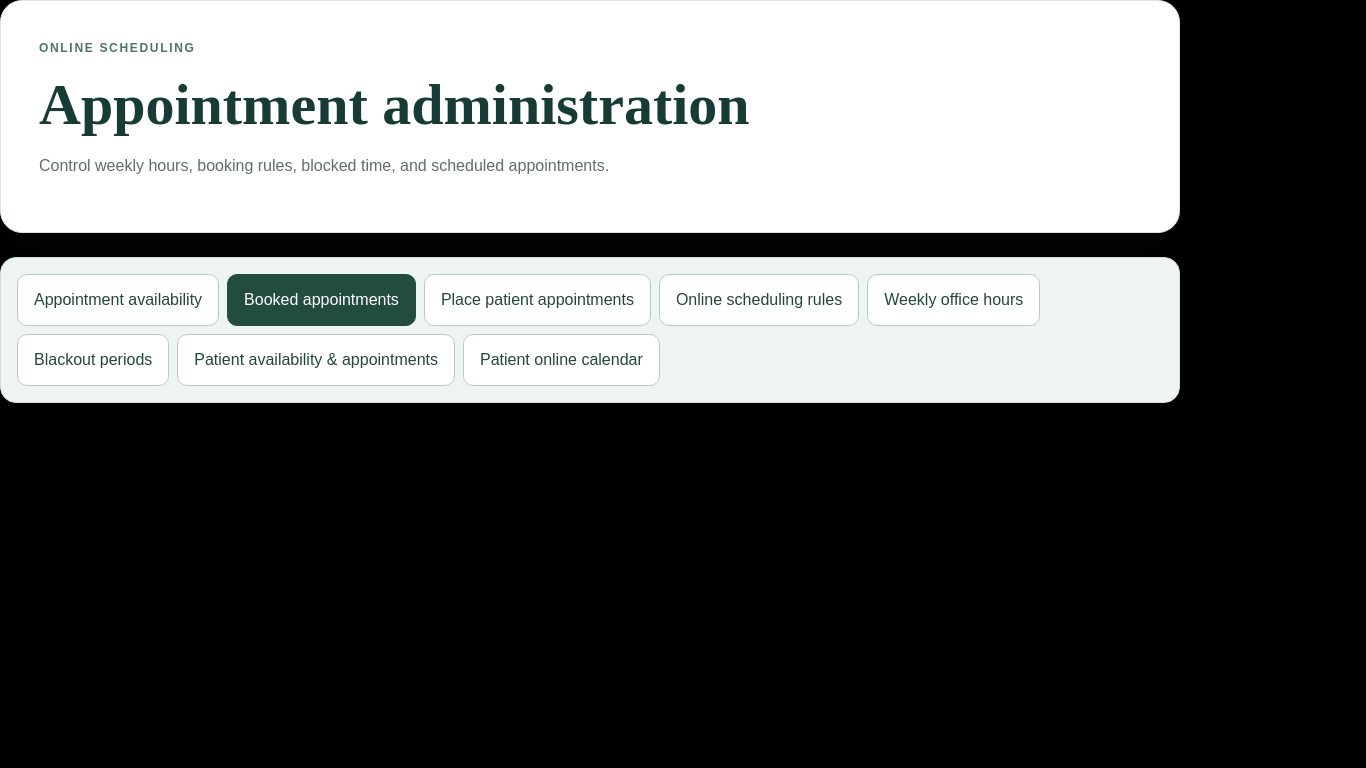
Test: patient selector and repeat controls are admin-only
Click the button "Place patient appointments".
click(537, 300)  # box [424,274,651,326]
(page scrolled)
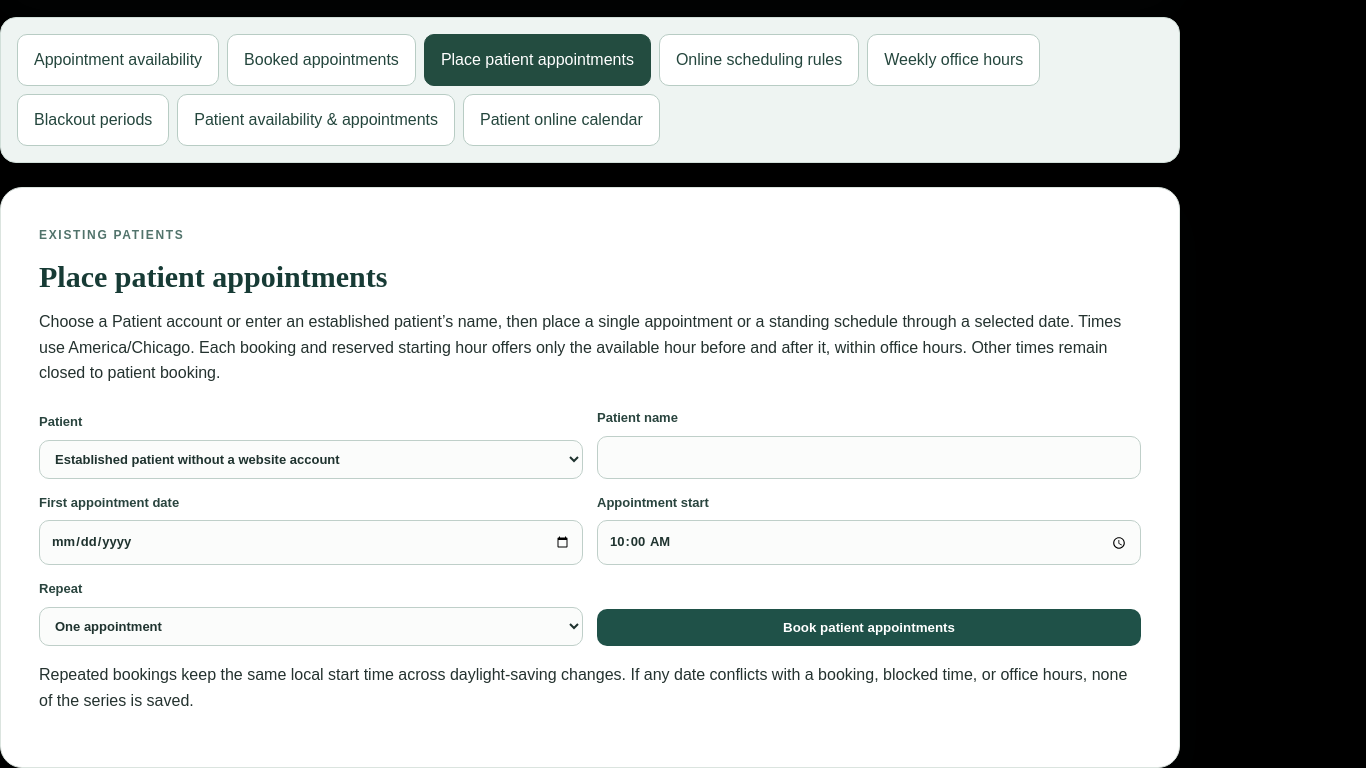
Select "Every other week" in the dropdown labelled "Repeat" at coordinates (311, 626), box [39,607,583,646]
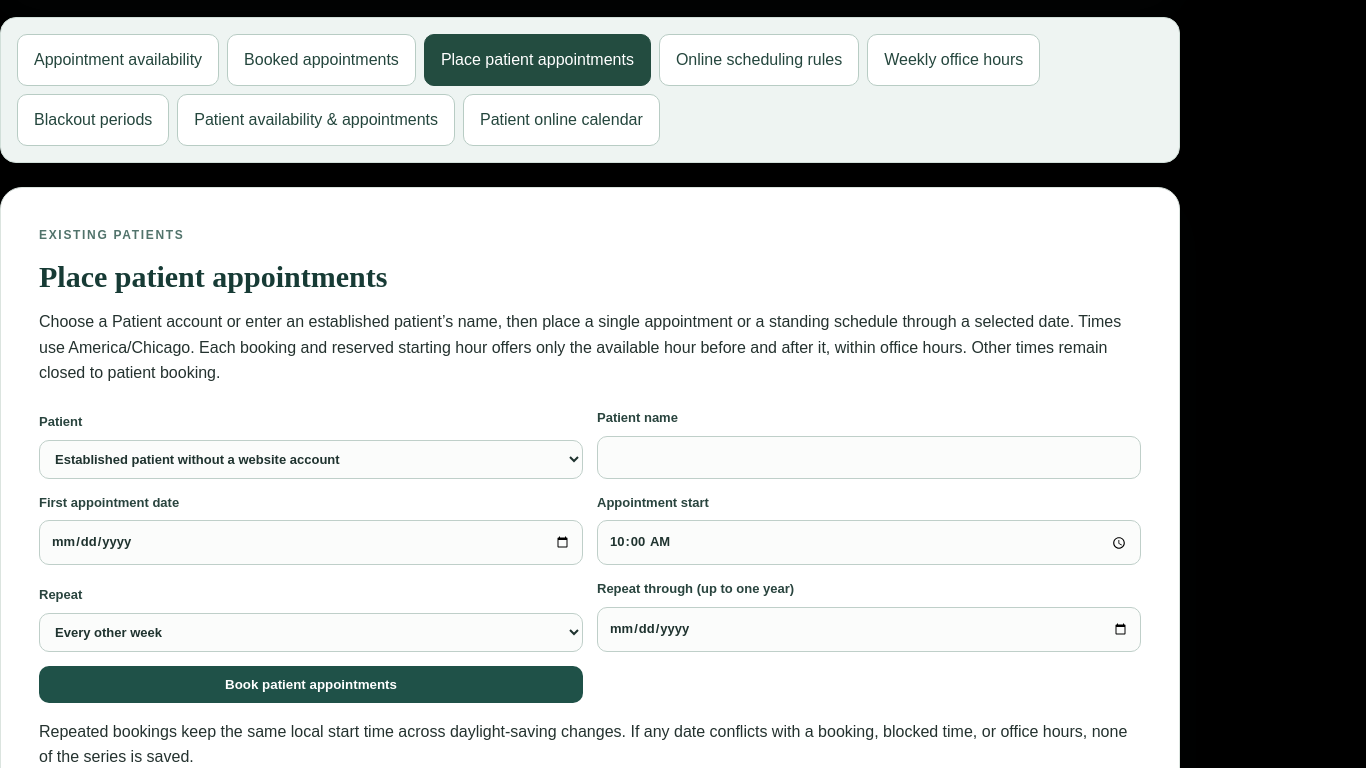
Check: the date field labelled "Repeat through (up to one year)" is shown, box [597,607,1141,652]
